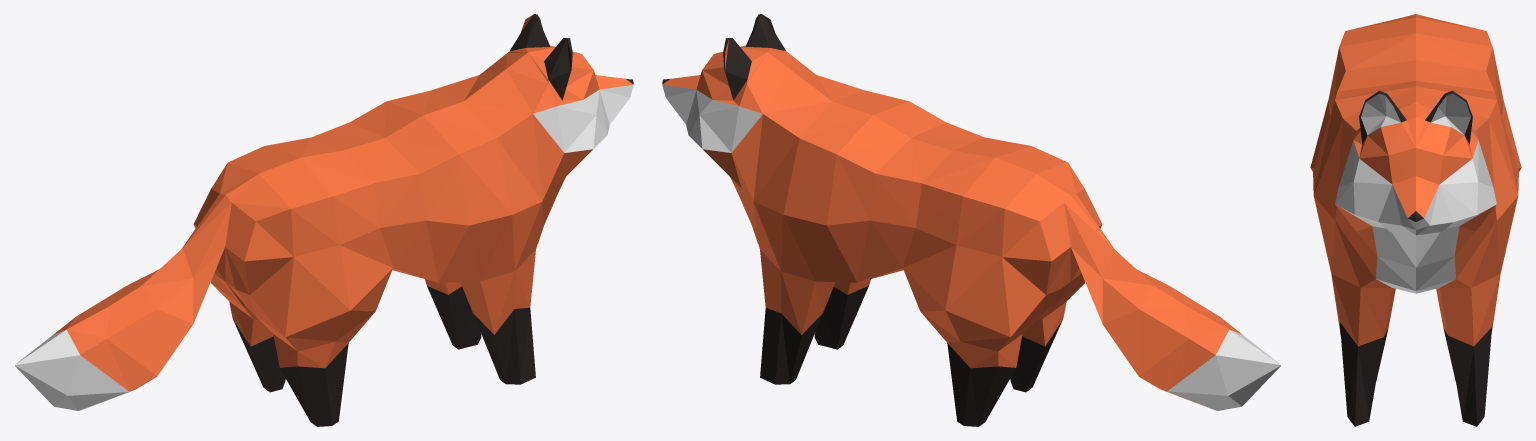
Rendered from Polar_Fox.fbx.
3 renders of one model, left to right at view 1: azimuth 30°, elevation 25°; view 2: azimuth 150°, elevation 25°; view 3: azimuth 270°, elevation 25°, orthographic. The views are drawn at different scales.
Parts seen in each view (by area): view 1: pCylinder2; view 2: pCylinder2; view 3: pCylinder2.
Boxes of the visible parts, x1,y1,x2,y2 form: pCylinder2: (14, 14, 633, 426); pCylinder2: (662, 14, 1281, 426); pCylinder2: (1310, 14, 1521, 426).
Bounding box in the file's own units: 480 × 238 × 127.
